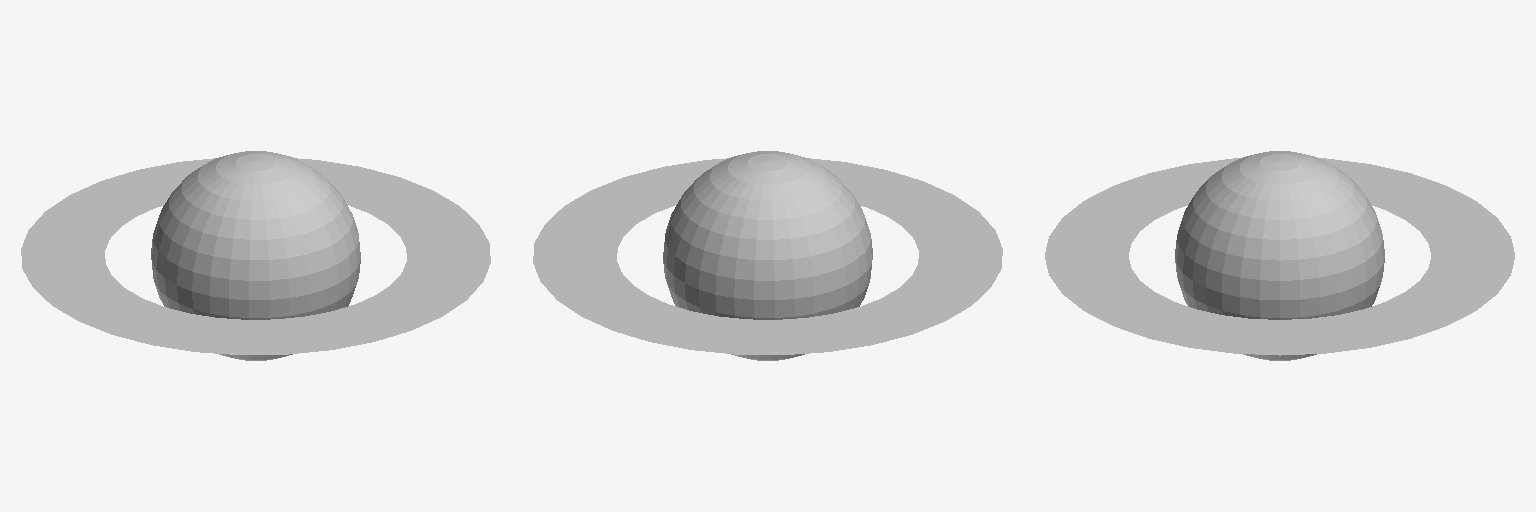
Rendered from saturn.obj.
3 renders of one model, left to right at view 1: azimuth 30°, elevation 25°; view 2: azimuth 150°, elevation 25°; view 3: azimuth 270°, elevation 25°, orthographic.
Visible parts, largest first — view 1: Circle_Circle.008, Sphere; view 2: Circle_Circle.008, Sphere; view 3: Circle_Circle.008, Sphere.
Part boxes in pixels (bbox=[...]): Circle_Circle.008: bbox=[21, 158, 490, 354]; Sphere: bbox=[151, 151, 360, 360]; Circle_Circle.008: bbox=[533, 158, 1002, 354]; Sphere: bbox=[663, 151, 872, 360]; Circle_Circle.008: bbox=[1045, 158, 1514, 355]; Sphere: bbox=[1175, 151, 1384, 360].
Bounding box in the file's own units: 4.47 × 2 × 4.47.